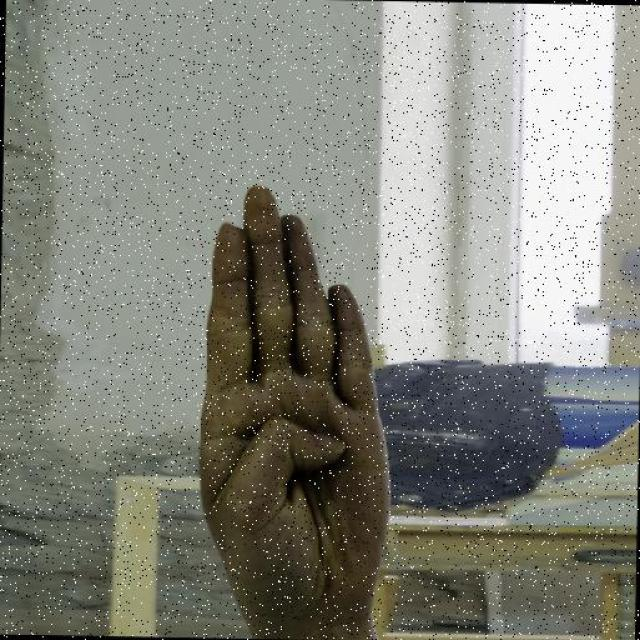B: (170, 163, 428, 617)
